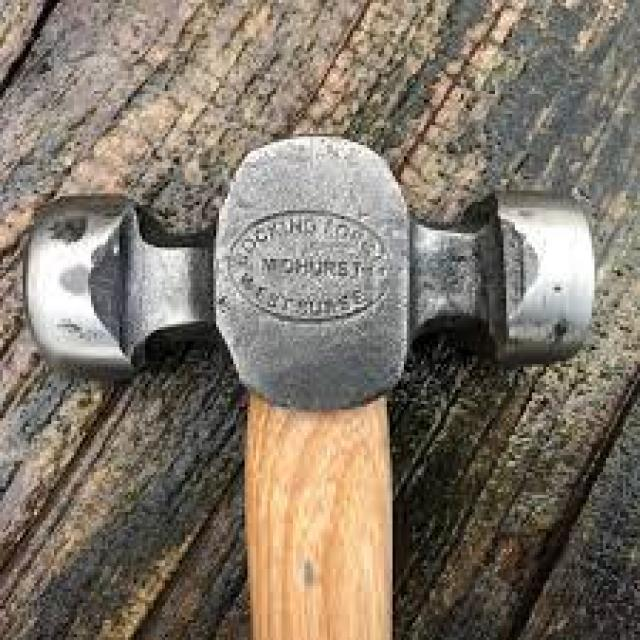hammer: (9, 125, 604, 640)
